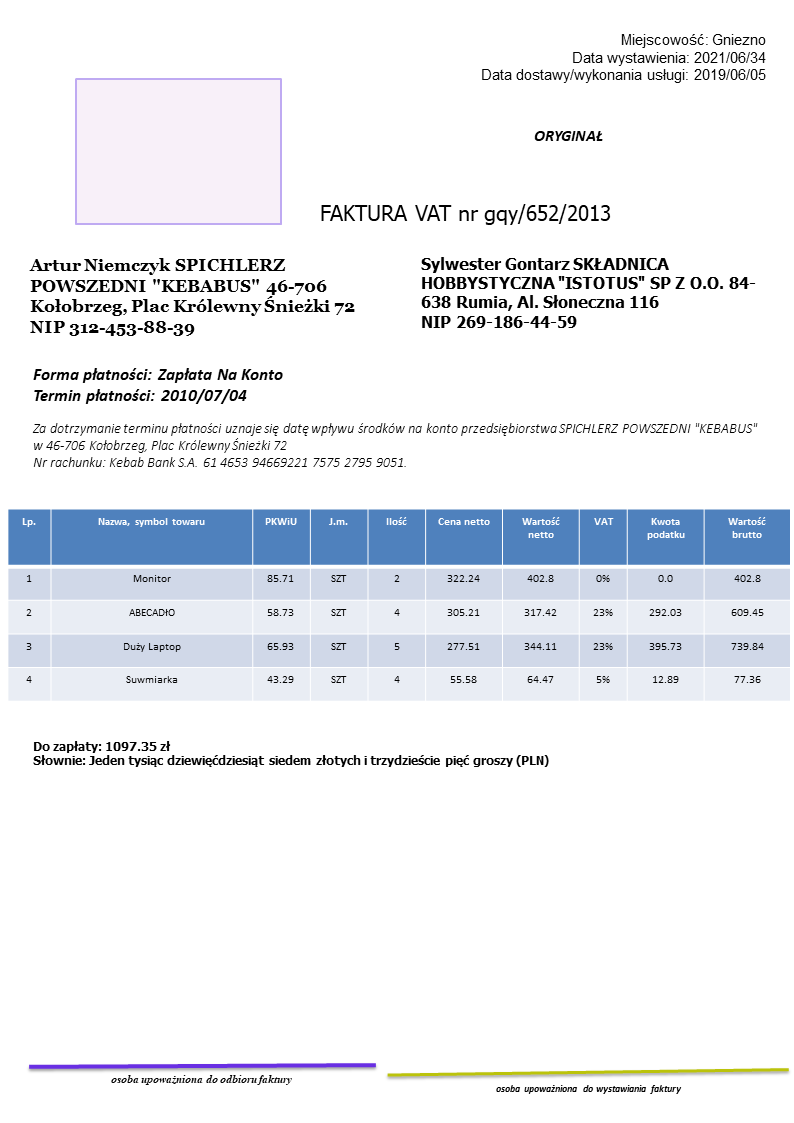Table: (6, 507, 791, 704)
TextBox: (30, 419, 765, 471), (27, 254, 358, 339), (418, 252, 760, 332), (31, 737, 551, 772), (476, 28, 769, 86), (30, 365, 288, 405), (318, 199, 611, 227), (492, 1079, 684, 1098), (106, 1071, 294, 1088), (531, 123, 604, 148)
